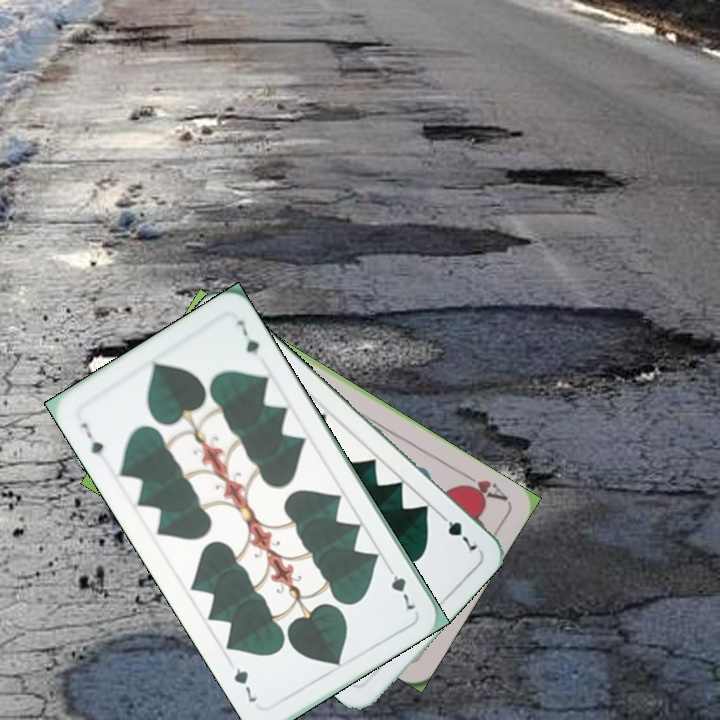G7: (433, 507, 480, 554), (382, 560, 419, 613), (76, 418, 106, 459)
HA: (455, 467, 510, 505)
